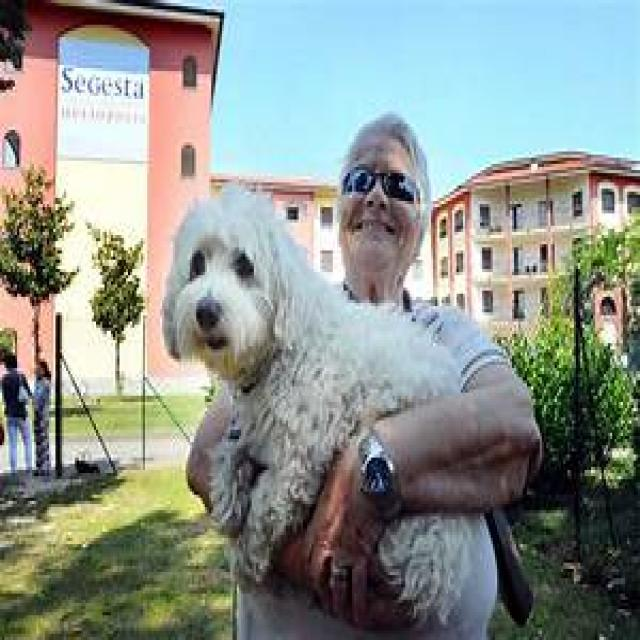animal: (163, 176, 462, 616)
